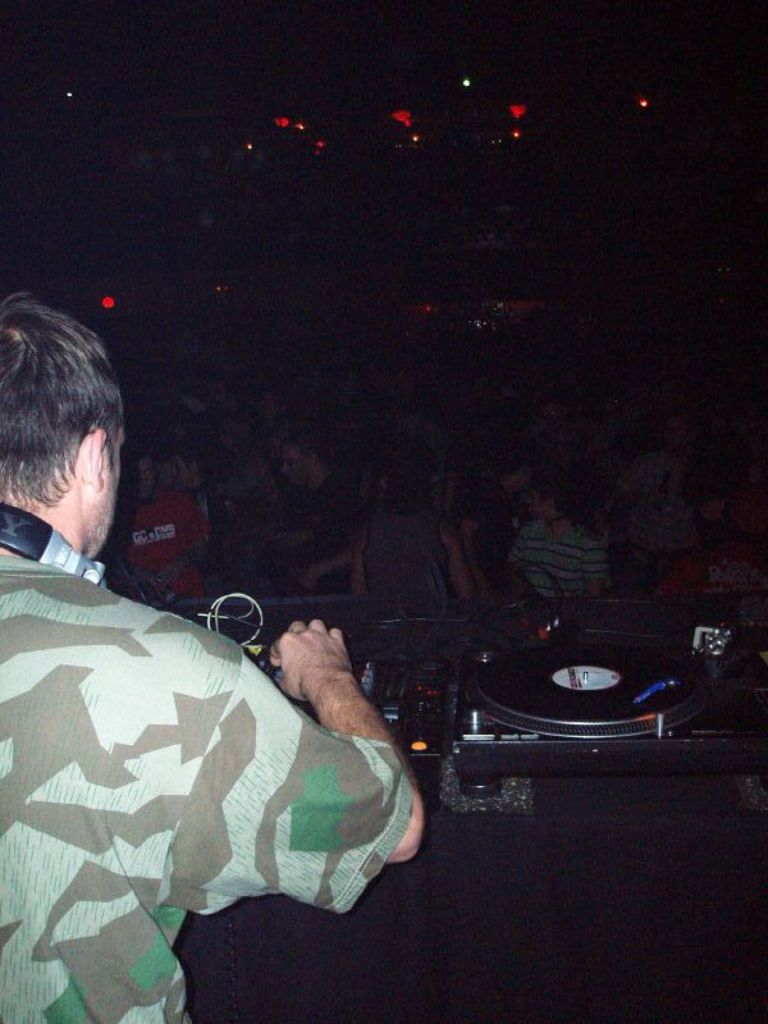Human-face: (91, 415, 128, 553)
